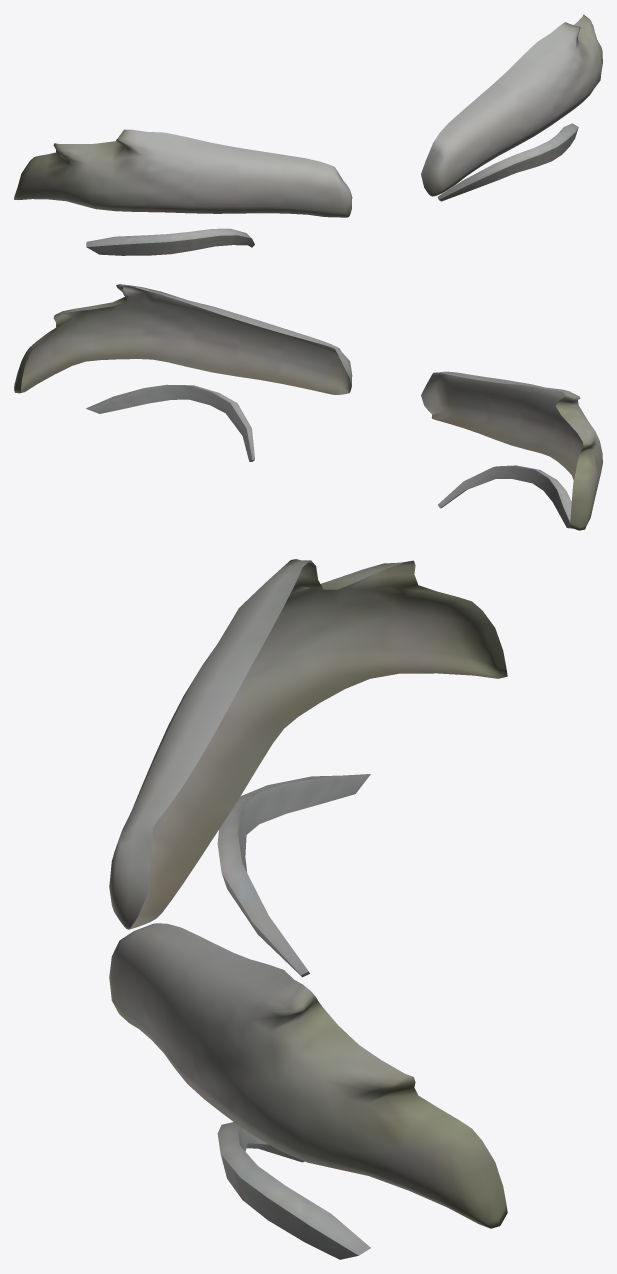
The model's file is quaternius-base-characters-eyebrows-regular.glb.
3 views of the same model, one above another, from view 1: azimuth 30°, elevation 25°; view 2: azimuth 150°, elevation 25°; view 3: azimuth 270°, elevation 25° (orthographic). The views are drawn at different scales.
Visible parts, largest first — view 1: Eyebrows_Regular; view 2: Eyebrows_Regular; view 3: Eyebrows_Regular.
Boxes of the visible parts, x1,y1,x2,y2 form: Eyebrows_Regular: (14, 14, 602, 255); Eyebrows_Regular: (14, 284, 602, 530); Eyebrows_Regular: (109, 559, 507, 1259).
Bounding box in the file's own units: 0.1247 × 0.0306 × 0.0376.
1 material, 1 textured.
